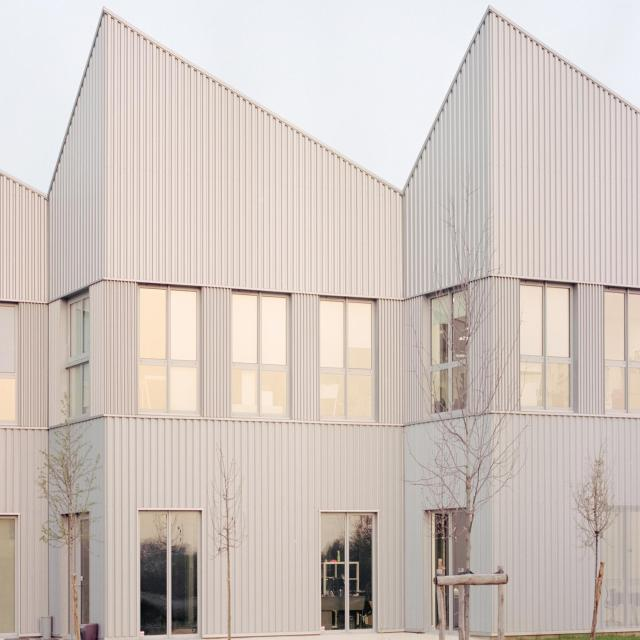door: (137, 509, 202, 640), (320, 510, 376, 632), (429, 508, 467, 636)
wall: (0, 4, 640, 640)
windows: (227, 289, 291, 420), (138, 287, 202, 417), (518, 278, 575, 411), (320, 295, 377, 426), (604, 286, 640, 417), (430, 287, 467, 413), (68, 295, 91, 417)
